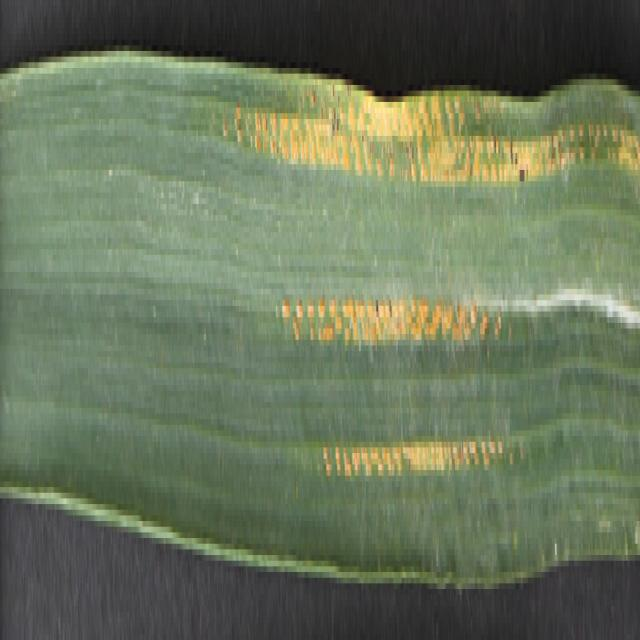leaf rust: (217, 57, 640, 560)
